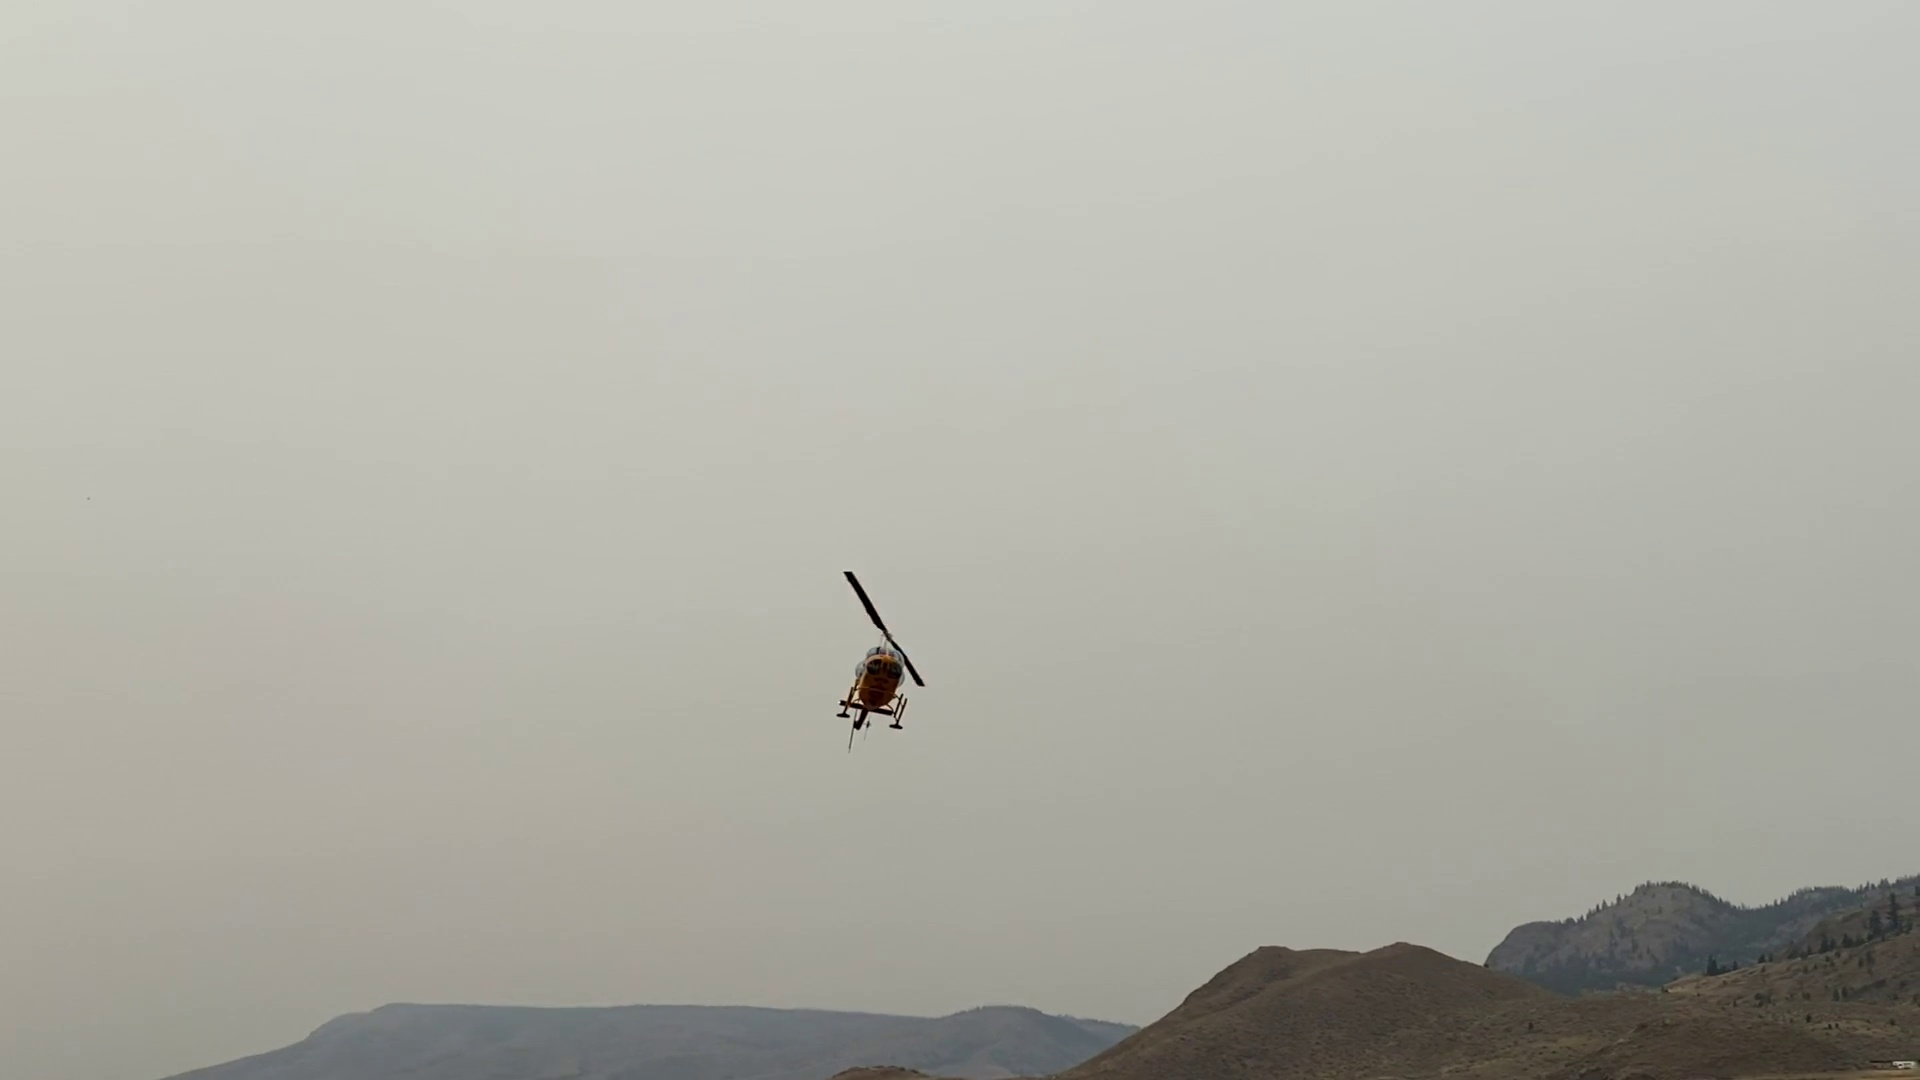heli: (831, 560, 928, 729)
